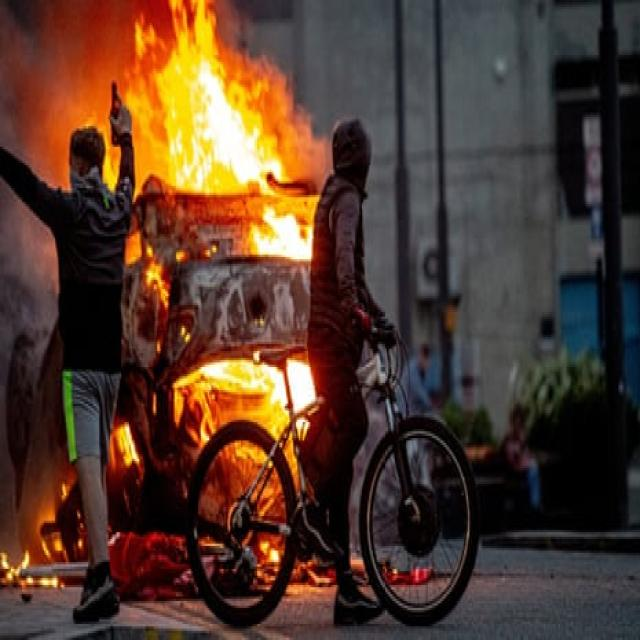fire: (126, 0, 288, 195), (122, 195, 317, 265), (197, 450, 284, 590), (174, 360, 293, 449), (46, 63, 127, 192), (0, 481, 85, 594), (107, 534, 197, 598), (141, 263, 171, 356), (106, 422, 144, 494), (288, 559, 337, 592), (291, 360, 316, 413)
